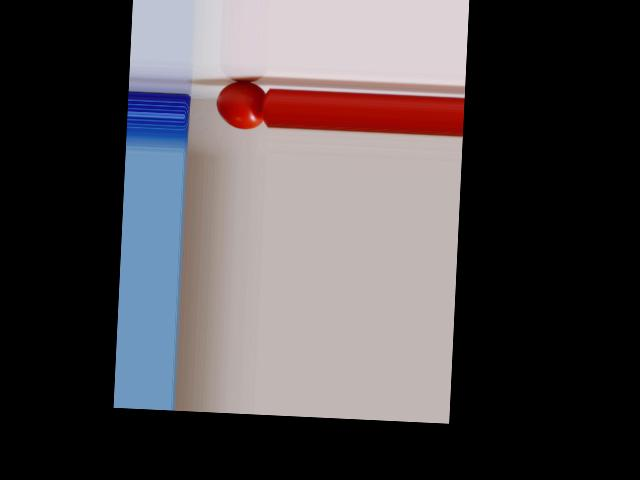tomato: (215, 80, 264, 129)
